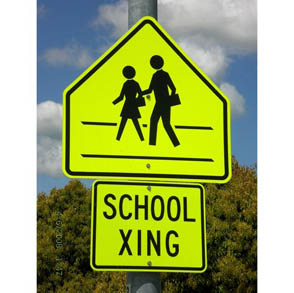slow: (58, 15, 236, 184)
